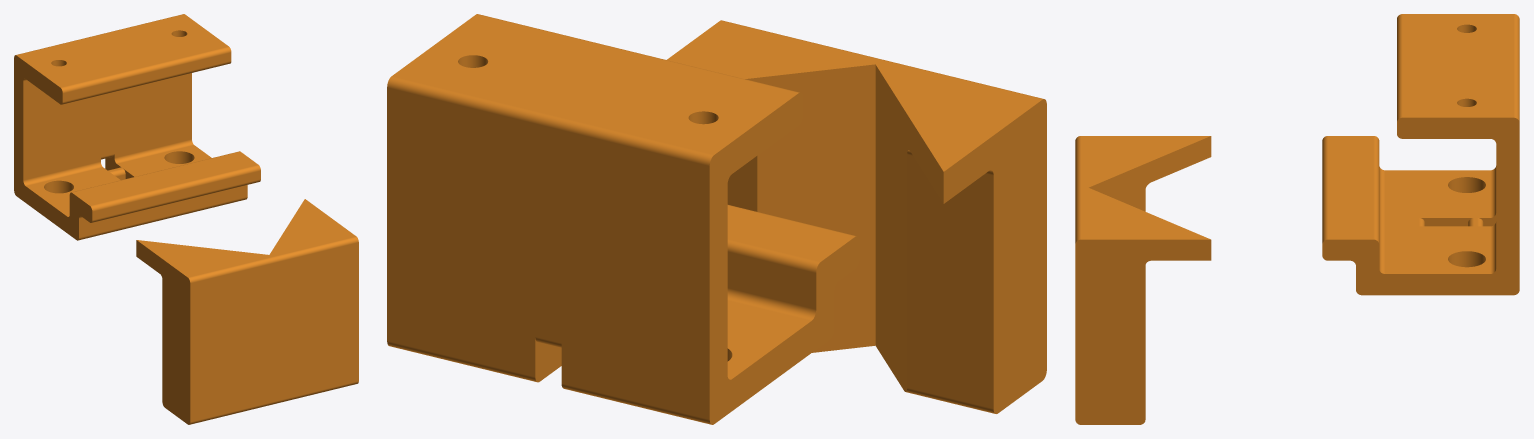
Rendered from soltura_berco.glb.
The picture shows the model from 3 angles, left to right: view 1: azimuth 30°, elevation 25°; view 2: azimuth 150°, elevation 25°; view 3: azimuth 270°, elevation 25°; orthographic projection. The views are drawn at different scales.
Visible parts, largest first — view 1: soltura_berco; view 2: soltura_berco; view 3: soltura_berco.
Part boxes in pixels (x1=…): soltura_berco: x1=14, y1=14, x2=358, y2=424; soltura_berco: x1=387, y1=14, x2=1046, y2=424; soltura_berco: x1=1075, y1=14, x2=1519, y2=424.
Bounding box in the file's own units: 42 × 58 × 76.
